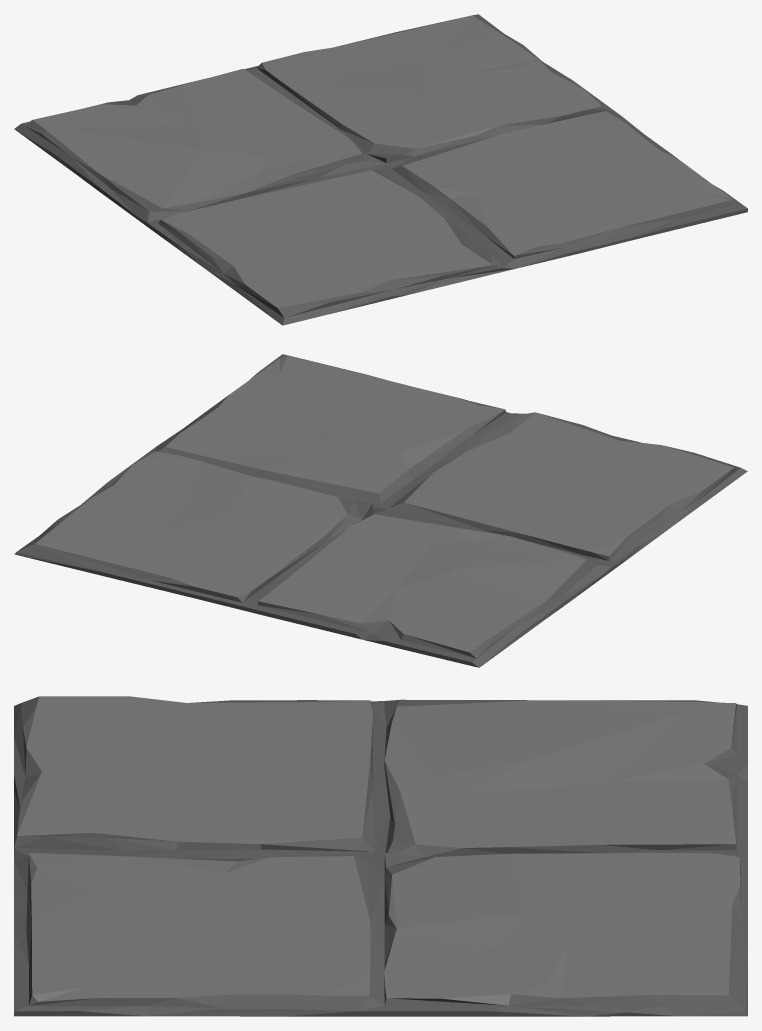
File: SM_Env_Tiles_09.FBX
3 renders of one model, top to bottom at view 1: azimuth 30°, elevation 25°; view 2: azimuth 150°, elevation 25°; view 3: azimuth 270°, elevation 25°, orthographic. The views are drawn at different scales.
Visible parts, largest first — view 1: SM_Env_Tiles_09; view 2: SM_Env_Tiles_09; view 3: SM_Env_Tiles_09.
Boxes of the visible parts, x1,y1,x2,y2 form: SM_Env_Tiles_09: (14, 14, 747, 325); SM_Env_Tiles_09: (14, 354, 747, 667); SM_Env_Tiles_09: (14, 696, 747, 1016).
Size of what is drawn, in the model's own units: 500 by 500 by 12.79.
